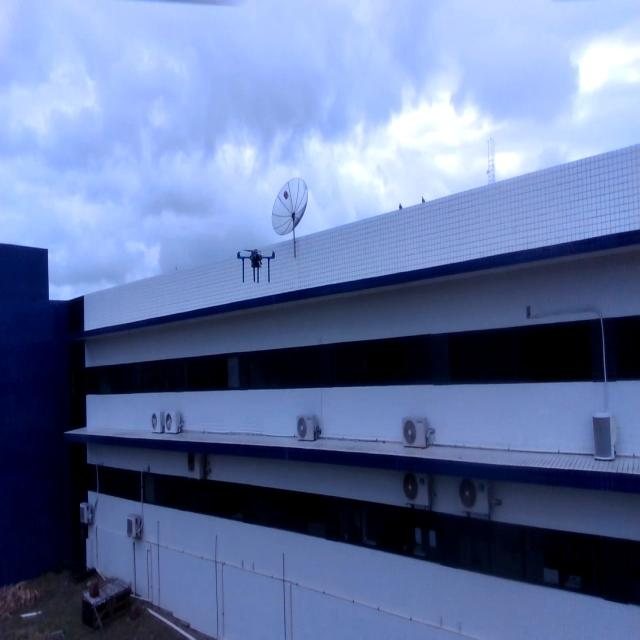-uav-: (232, 243, 279, 295)
